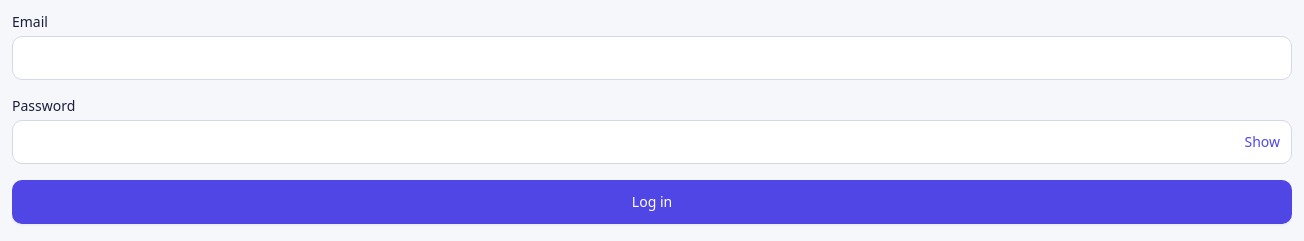
LoginForm › can show and hide the password
Type "secret" into the password field labelled "Password". click: (652, 142)
box: [12,120,1292,164]
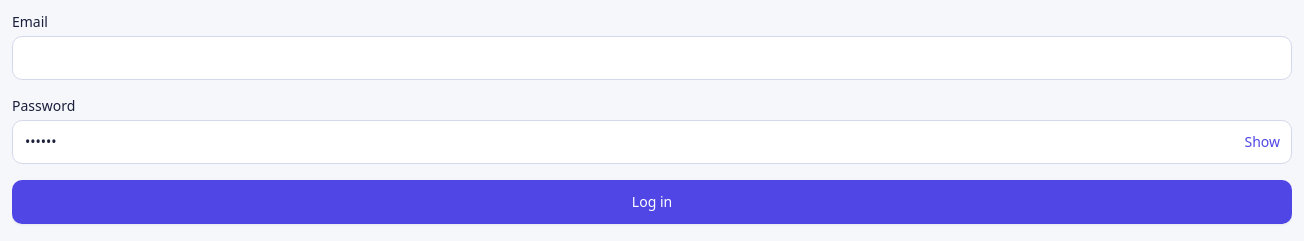
Click the button with aria-label "Show password". click: (1262, 142)
box: [1232,120,1292,164]
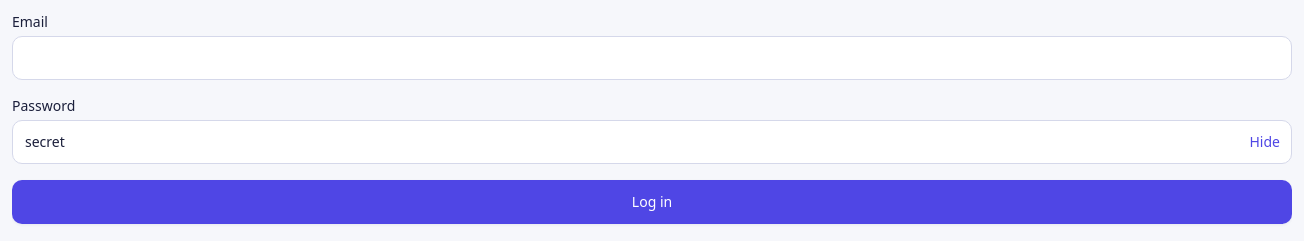
Expected: the field labelled "Password" shows its text, [12,120,1292,164]
Click the button with aria-label "Hide password". click: (1265, 142)
box: [1238,120,1292,164]
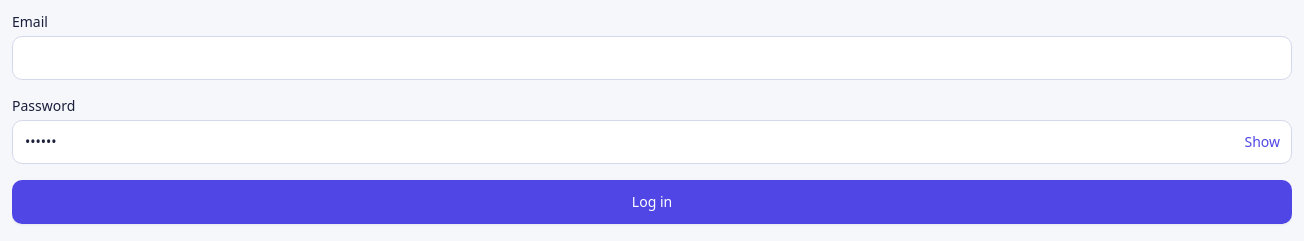
Expected: the password field labelled "Password" hides its text, [12,120,1292,164]
